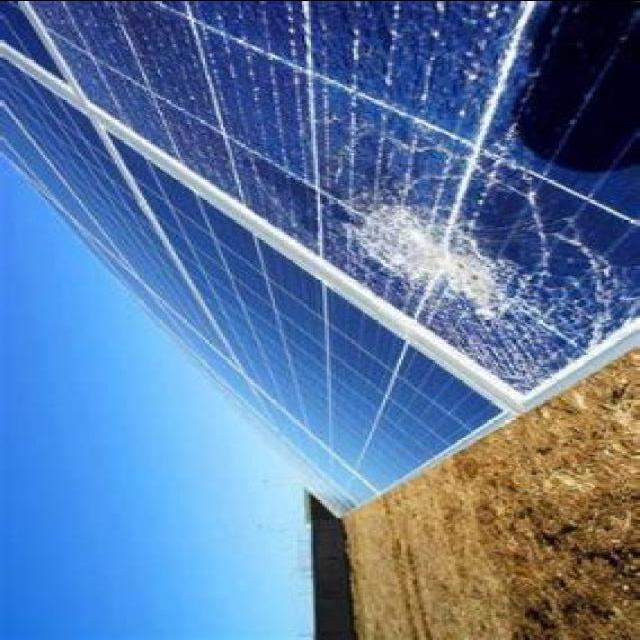cracked: (27, 3, 633, 412)
